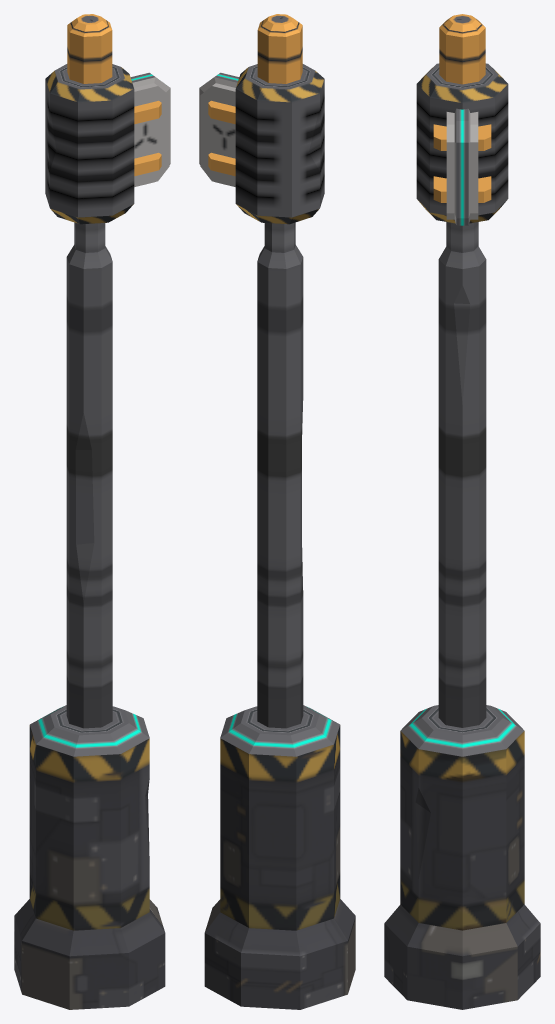
Rendered from SM_Prop_Street_Pole_02.fbx.
3 renders of one model, left to right at view 1: azimuth 30°, elevation 25°; view 2: azimuth 150°, elevation 25°; view 3: azimuth 270°, elevation 25°, orthographic.
Parts seen in each view (by area): view 1: SM_Prop_Street_Pole_02; view 2: SM_Prop_Street_Pole_02; view 3: SM_Prop_Street_Pole_02.
Boxes of the visible parts, x1,y1,x2,y2 form: SM_Prop_Street_Pole_02: (14,14,170,1009); SM_Prop_Street_Pole_02: (199,14,355,1009); SM_Prop_Street_Pole_02: (384,14,540,1009).
Bounding box in the file's own units: 85.42 × 538 × 79.48.
